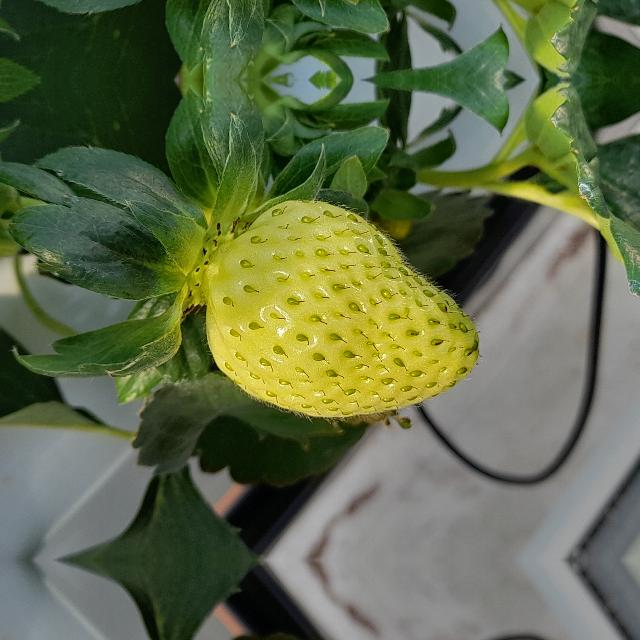Health_25: (205, 200, 481, 422)
